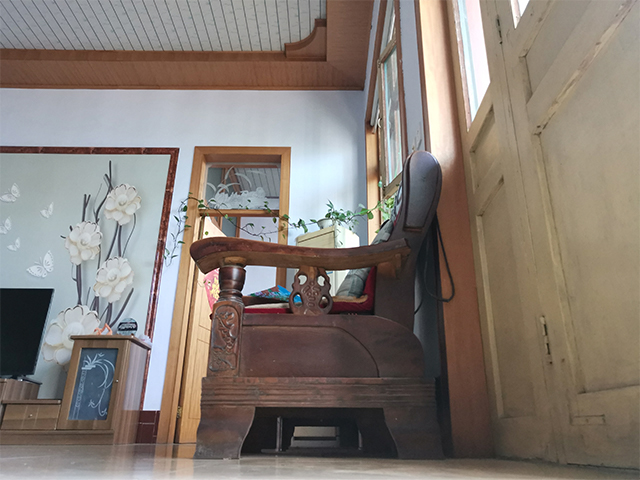cabinet: (1, 333, 153, 447)
stool: (188, 148, 449, 461)
